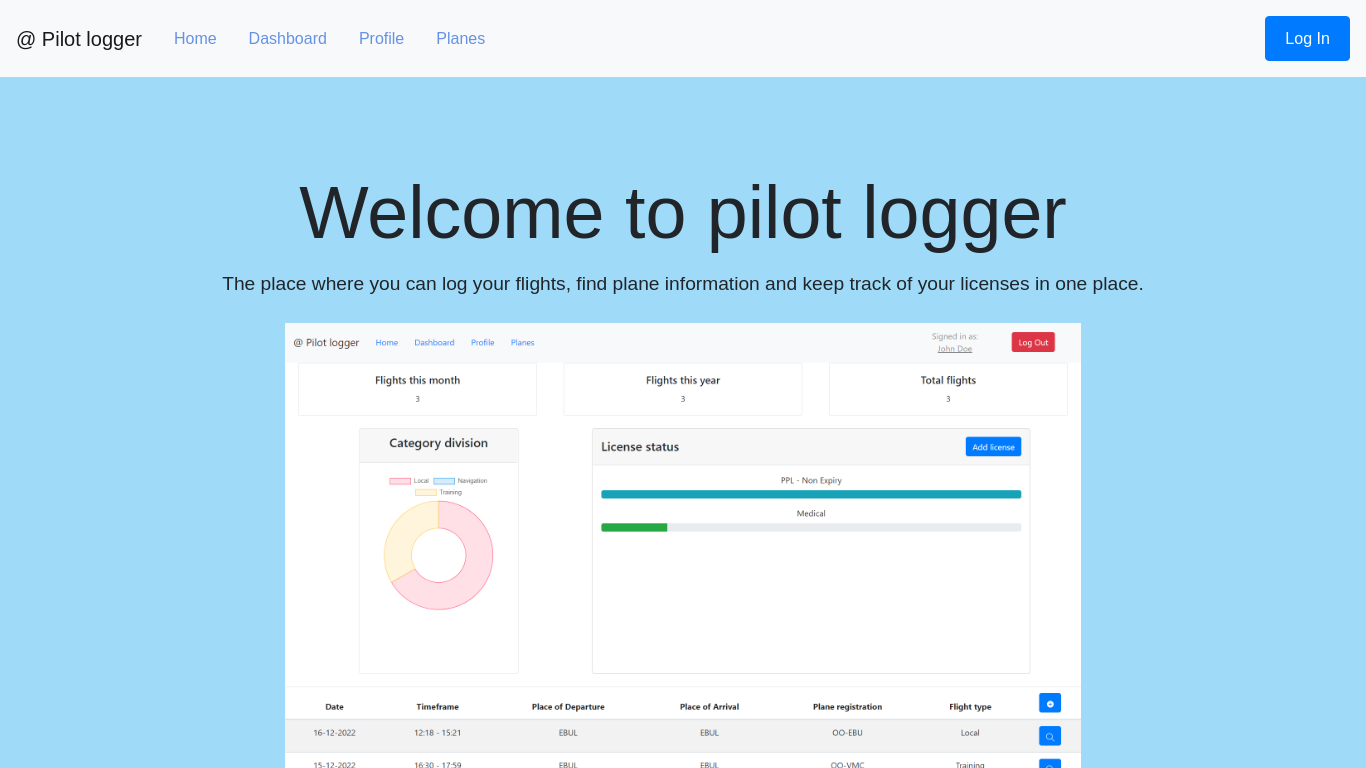
Scenario: Not logged in › Cannot reach dashboard page
Click the link with test id "nav-dashboard": click(288, 39) [249, 30, 327, 47]
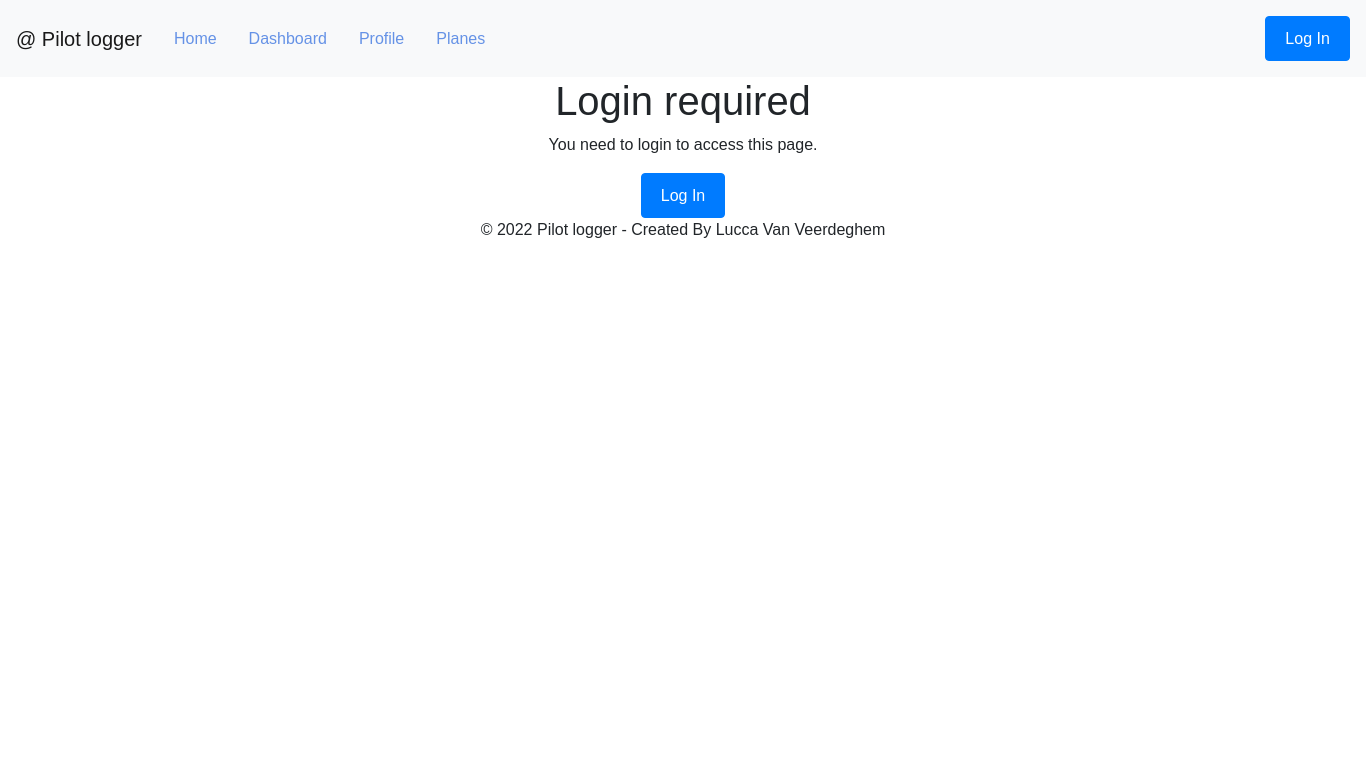
expect the heading "Login required" is shown: met, box [555, 79, 811, 123]
